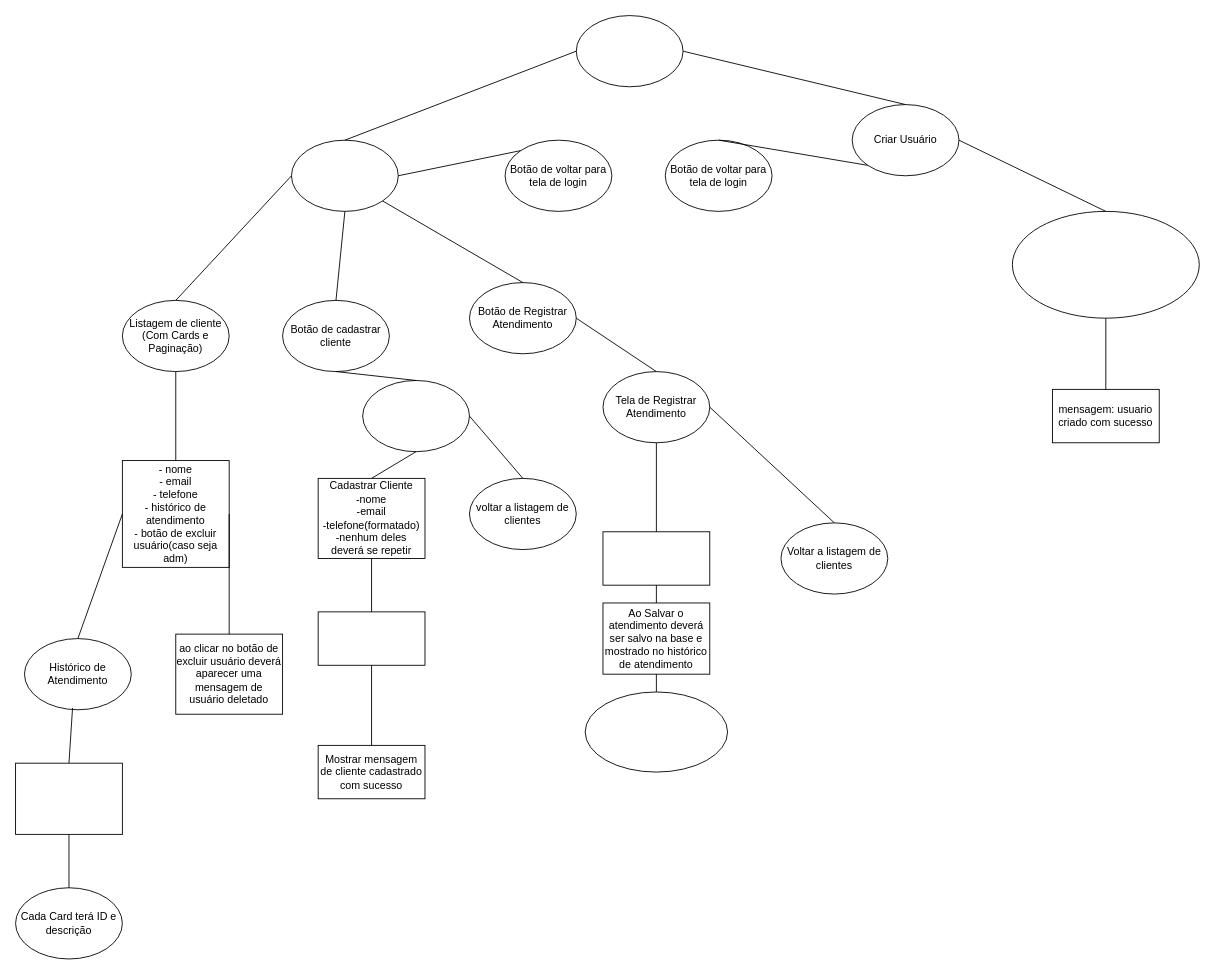
Some shapes in this 1215 by 975 pixel diagram are drawn without their labels. Here are the shapes that lost their labels. From the top down, the centre of each, then its label:
At point (629, 51): "Tela de Login".
At point (344, 175): "Entrar(Deverá vir o token de autenticação no response)".
At point (1105, 264): "login(nome usuario) email senha administrador/vendedor/atendente".
At point (415, 416): "Tela de cadastrar cliente(se o usuário for administrador ou vendedor)".
At point (656, 558): "Registrar atendimento(id deverá estar na base) Descrição".
At point (371, 638): "Ao cadastrar cliente ele deverá ser salvo na base e mostrado na listagem".
At point (656, 731): "Mostrar mensagem de Atendimento registrado com sucesso".
At point (68, 798): "- Dados do Cliente - Listagem de atendimento(Com Cards e Paginação)".
